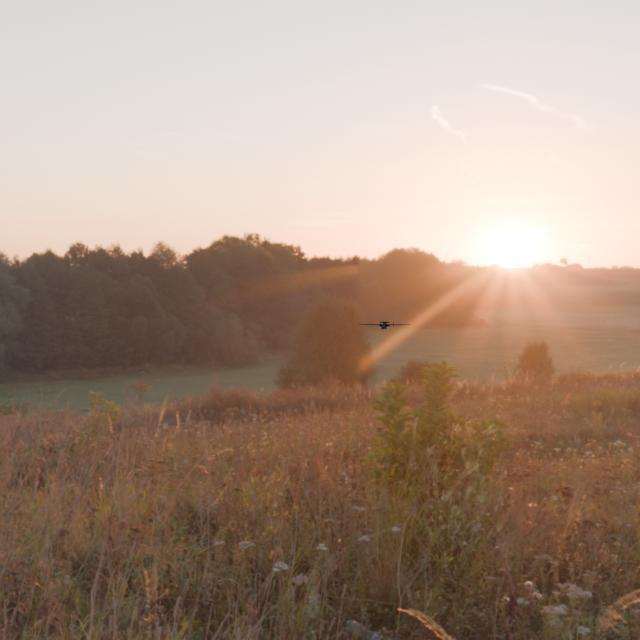Airaplan: (358, 321, 410, 330)
